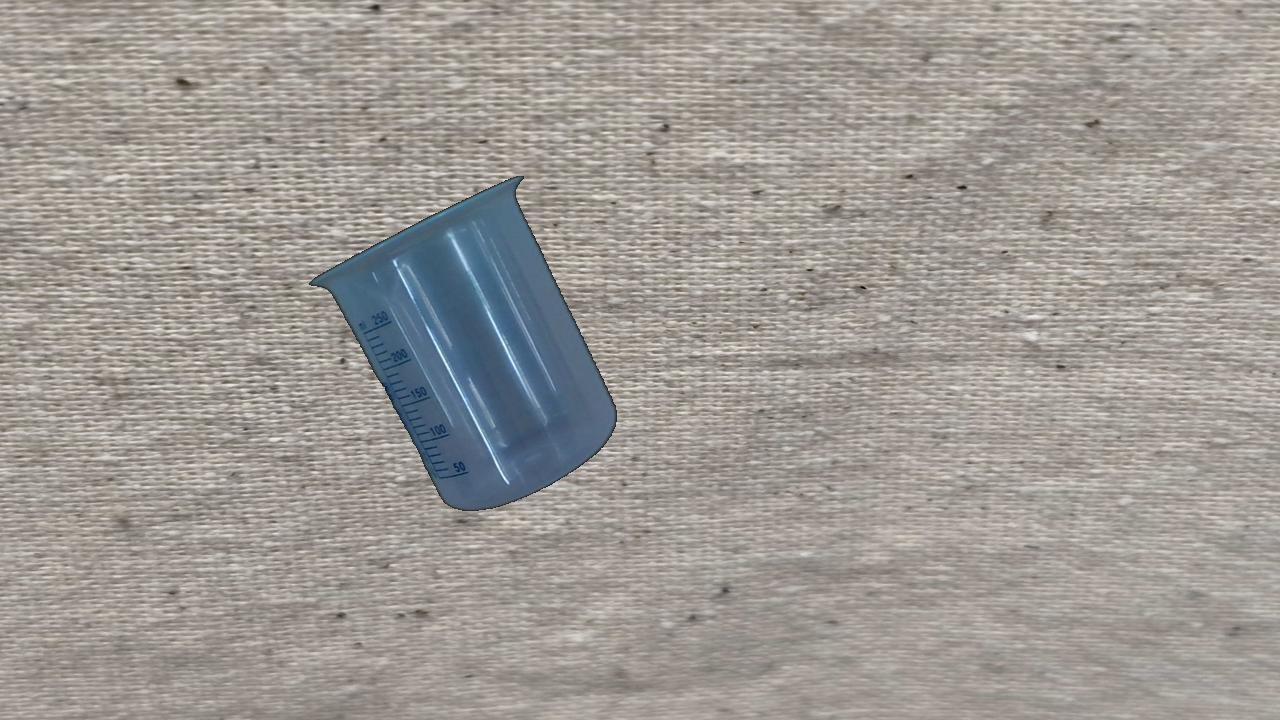becker: (308, 174, 618, 514)
